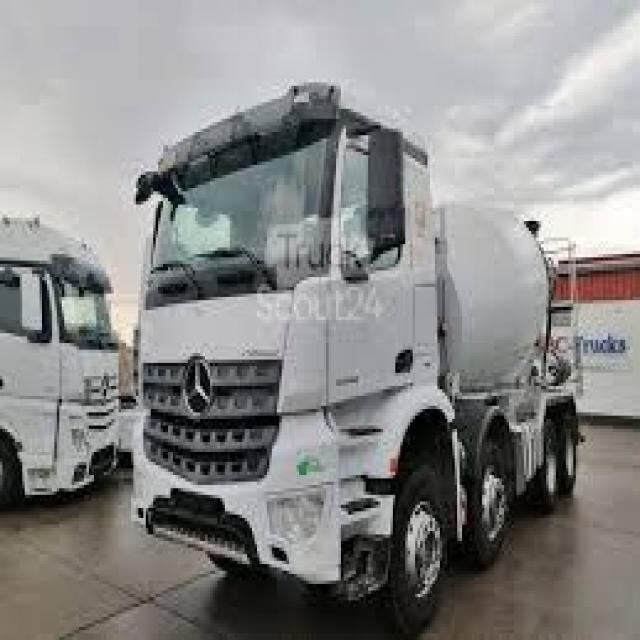Mixer Truck: (125, 79, 588, 635), (0, 209, 122, 510)
